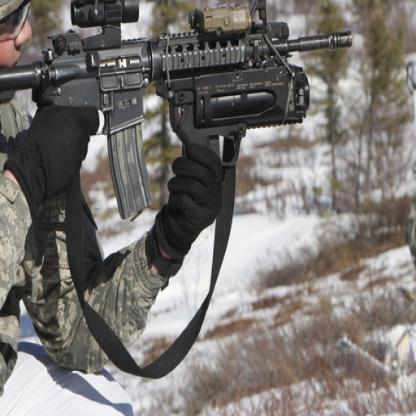gun: (0, 0, 353, 219)
